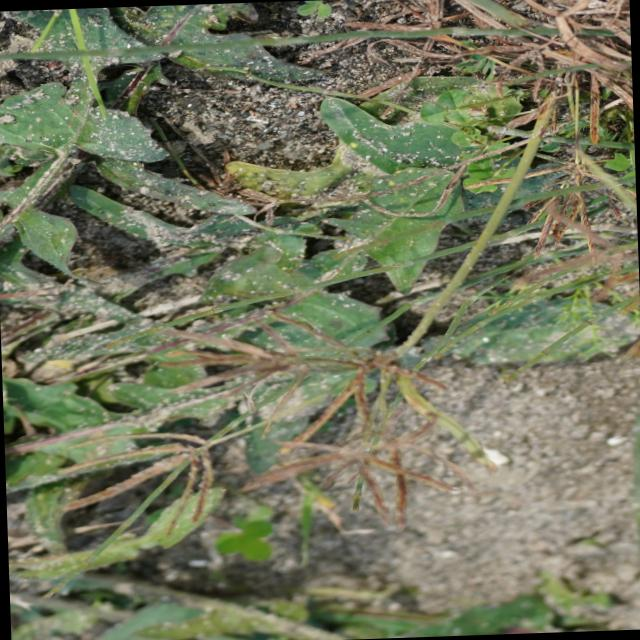cyperus: (31, 298, 482, 570), (472, 76, 640, 325)
